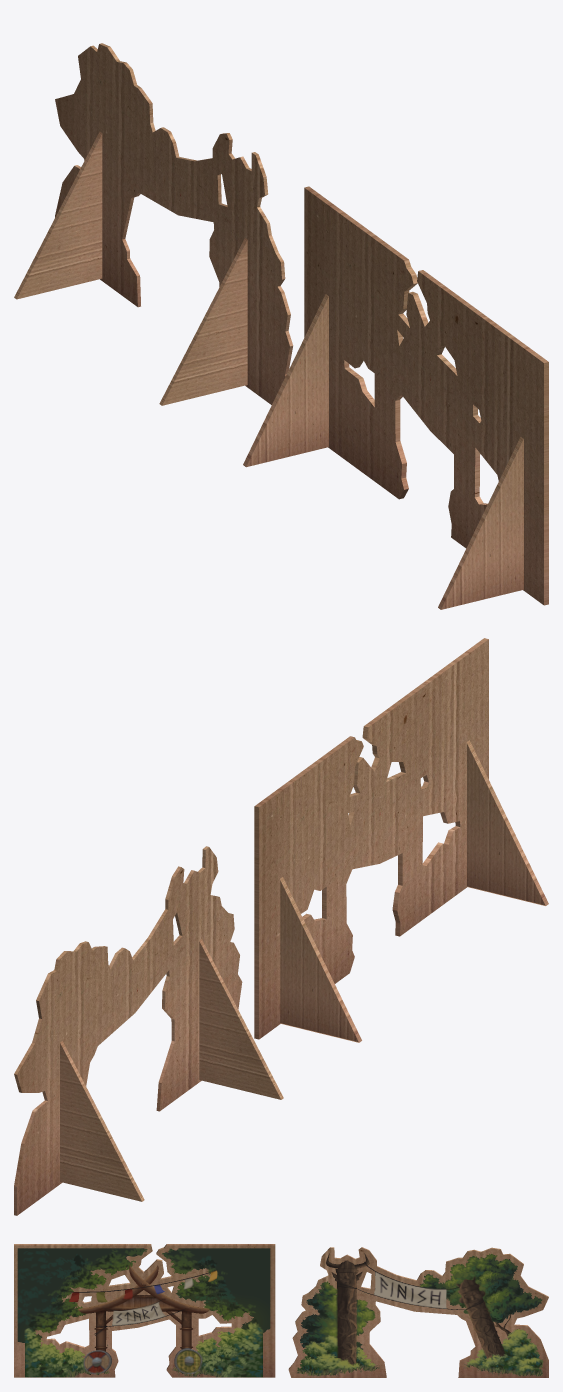
The model's file is start en finish.fbx.
3 renders of one model, top to bottom at view 1: azimuth 30°, elevation 25°; view 2: azimuth 150°, elevation 25°; view 3: azimuth 270°, elevation 25°, orthographic. The views are drawn at different scales.
Visible parts, largest first — view 1: Plane.006, Plane.009, Plane.008, Plane.007, Plane.011, Plane.010; view 2: Plane.006, Plane.009, Plane.007, Plane.008, Plane.010, Plane.011; view 3: start, finish, Plane.006, Plane.009.
Boxes of the visible parts, x1,y1,x2,y2 form: Plane.006: (304, 186, 548, 605); Plane.009: (55, 43, 293, 404); Plane.008: (438, 437, 523, 609); Plane.007: (243, 294, 328, 467); Plane.011: (14, 131, 102, 299); Plane.010: (159, 238, 247, 405); Plane.006: (254, 638, 488, 1039); Plane.009: (14, 846, 242, 1215); Plane.007: (280, 877, 361, 1042); Plane.008: (466, 740, 548, 905); Plane.010: (199, 939, 283, 1099); Plane.011: (60, 1041, 144, 1201); start: (17, 1248, 270, 1377); finish: (296, 1253, 543, 1376); Plane.006: (14, 1244, 275, 1377); Plane.009: (288, 1247, 548, 1377).
Bounding box in the file's own units: 269 × 699 × 2557.
